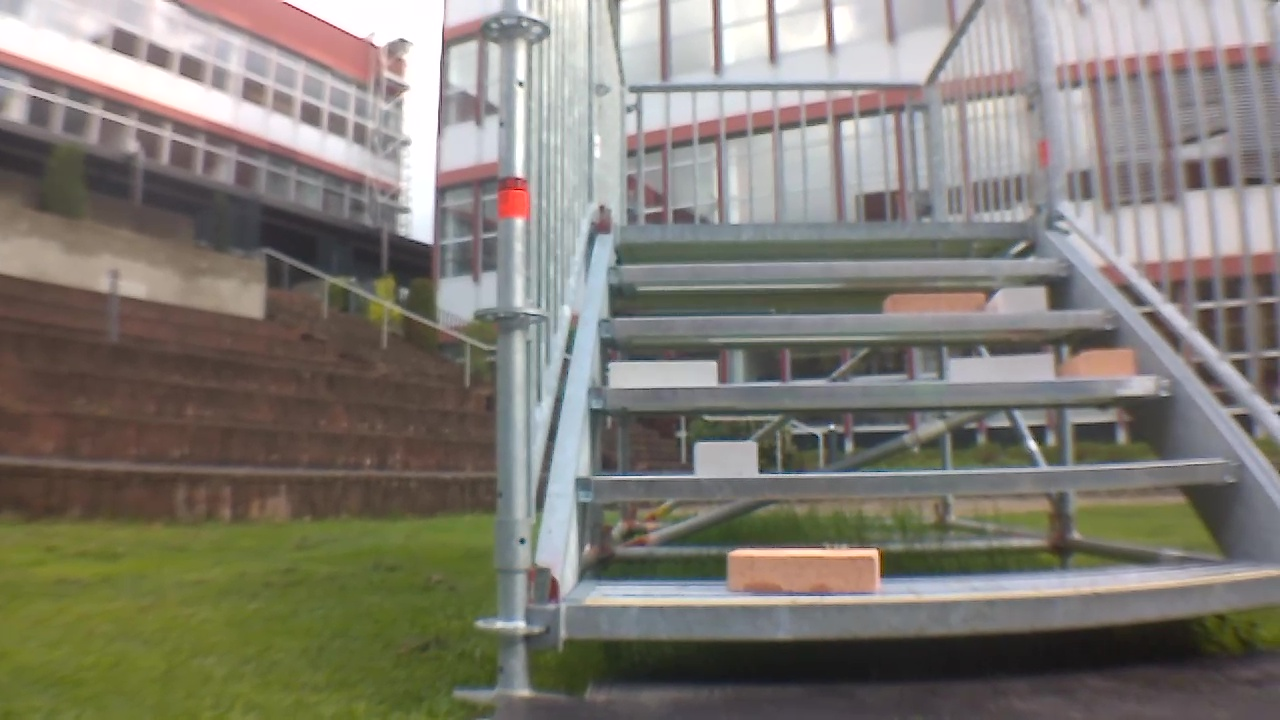brick: (728, 550, 878, 593), (951, 355, 1050, 381), (612, 362, 716, 386), (885, 293, 983, 315), (695, 442, 755, 475), (1059, 350, 1131, 376), (989, 288, 1046, 311)
edge: (564, 575, 1279, 636), (576, 461, 1242, 500), (589, 374, 1171, 404), (598, 311, 1120, 334), (609, 259, 1076, 283), (614, 220, 1034, 241)
stairs: (476, 3, 1280, 696)
steps: (559, 214, 1280, 643)
